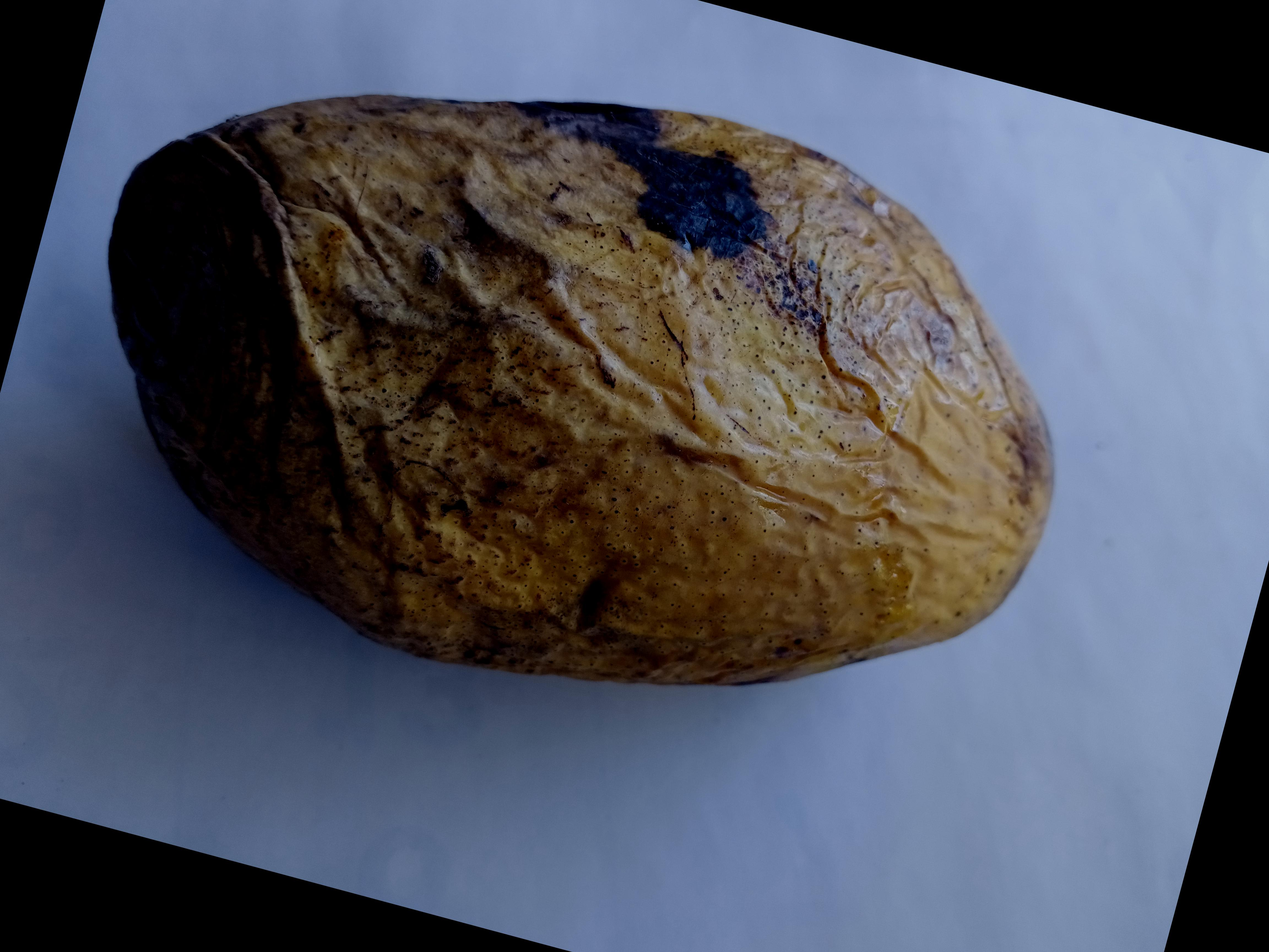Mango Overripe: (180, 0, 1269, 644)
